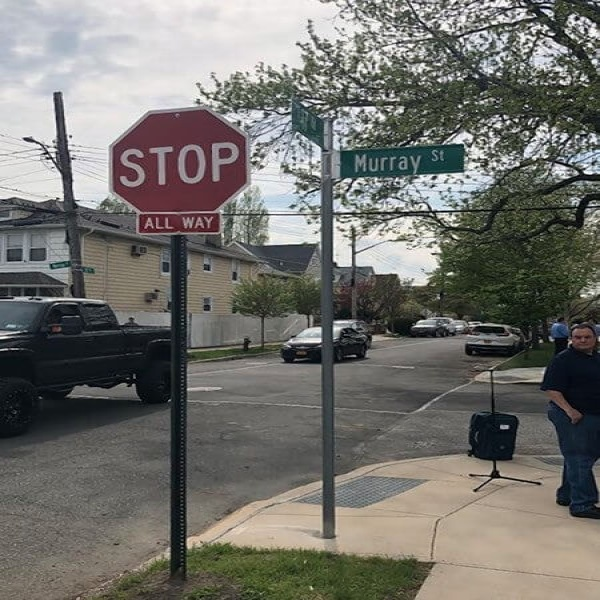stop: (113, 104, 255, 217)
